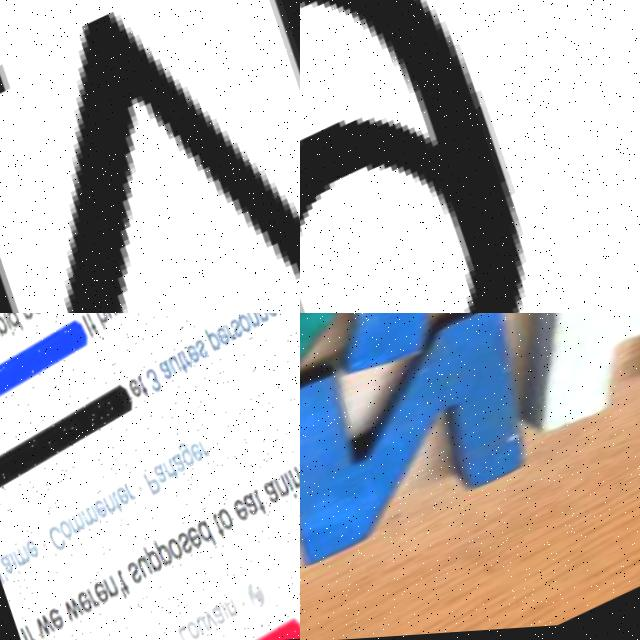3: (147, 366, 174, 402)
9: (300, 0, 626, 313)
M: (0, 0, 300, 313)
N: (300, 313, 576, 590)
